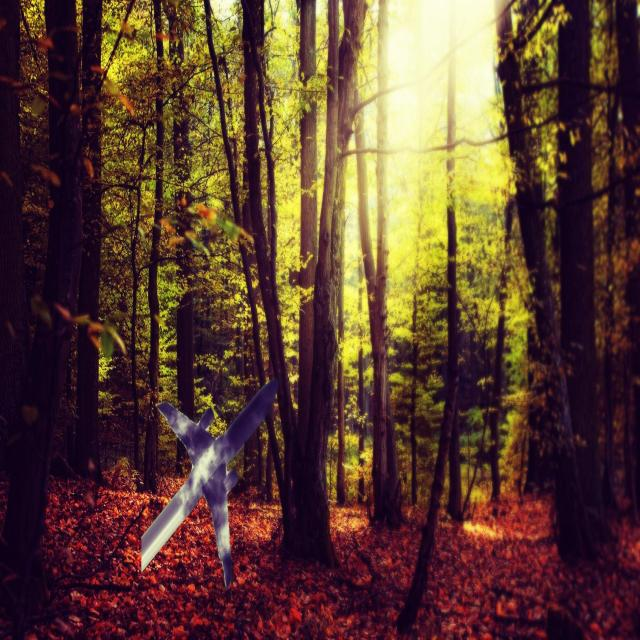airplane: (140, 377, 279, 590)
